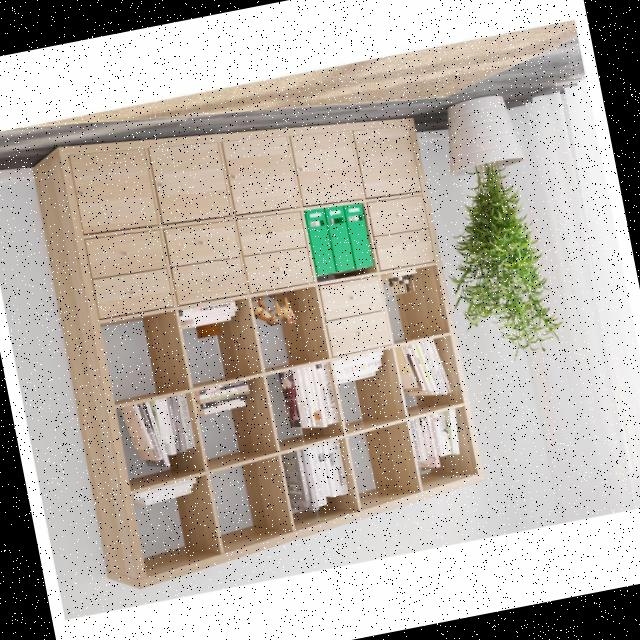Shelf: (12, 73, 496, 598)
